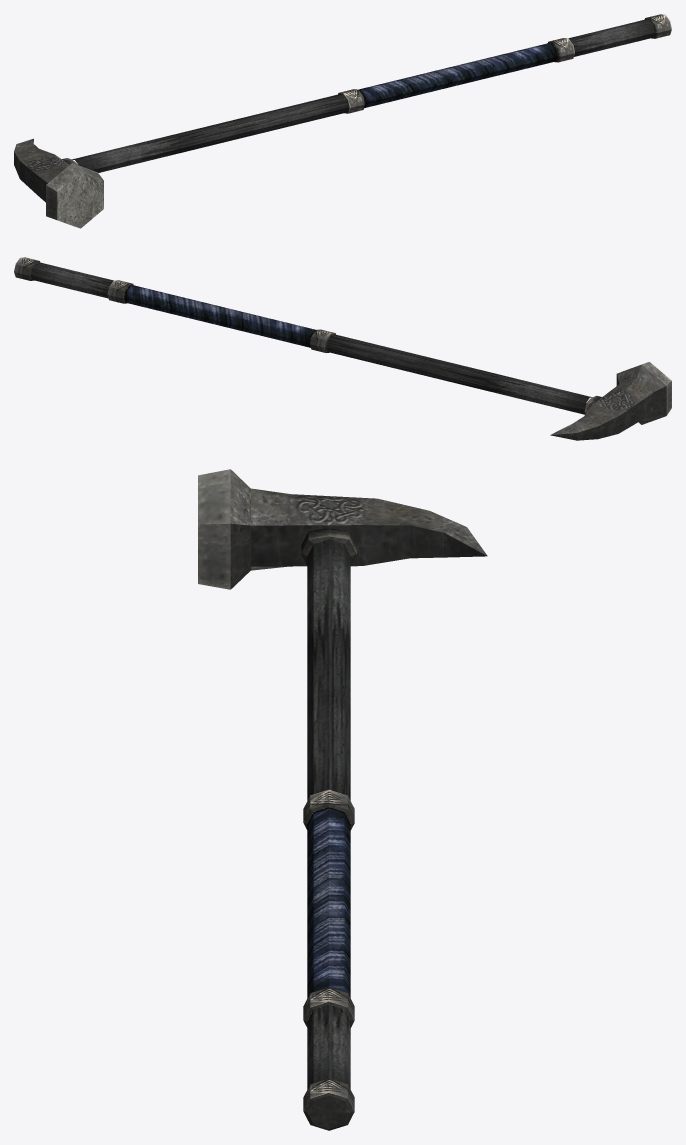
Rendered from KM_2H_BLUNT_DEX_02.glb.
The picture shows the model from 3 angles, top to bottom: view 1: azimuth 30°, elevation 25°; view 2: azimuth 150°, elevation 25°; view 3: azimuth 270°, elevation 25°; orthographic projection. The views are drawn at different scales.
Parts seen in each view (by area): view 1: KM_2H_BLUNT_DEX_02; view 2: KM_2H_BLUNT_DEX_02; view 3: KM_2H_BLUNT_DEX_02.
Boxes of the visible parts, x1=… form: KM_2H_BLUNT_DEX_02: x1=14, y1=14, x2=671, y2=228; KM_2H_BLUNT_DEX_02: x1=14, y1=257, x2=671, y2=440; KM_2H_BLUNT_DEX_02: x1=198, y1=469, x2=487, y2=1130.
Bounding box in the file's own units: 1.57 × 0.1451 × 0.316.
4 materials, 4 textured.
